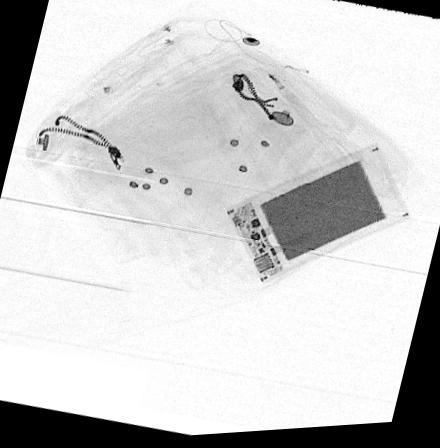Powerbank: (224, 148, 412, 288)
